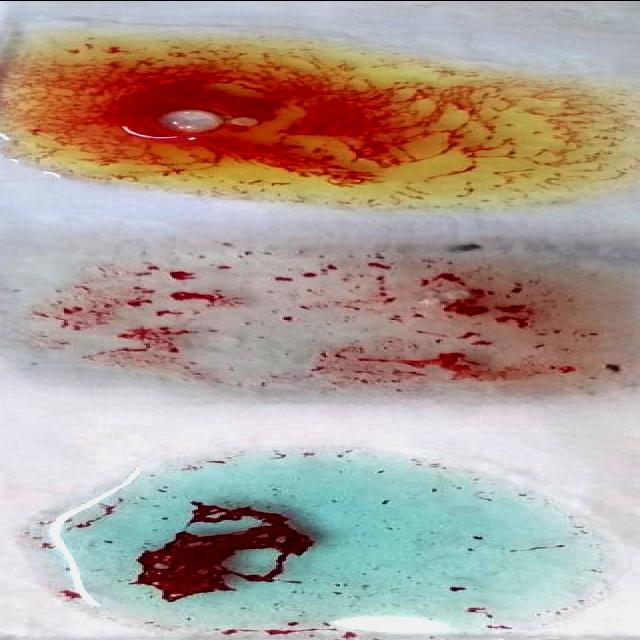A: (56, 469, 614, 628)
B: (16, 34, 640, 190)
D: (7, 247, 640, 388)
